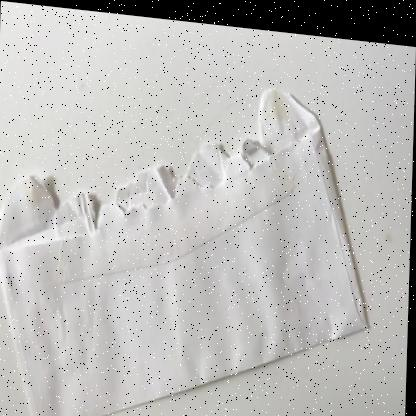Paper: (0, 81, 369, 416)
